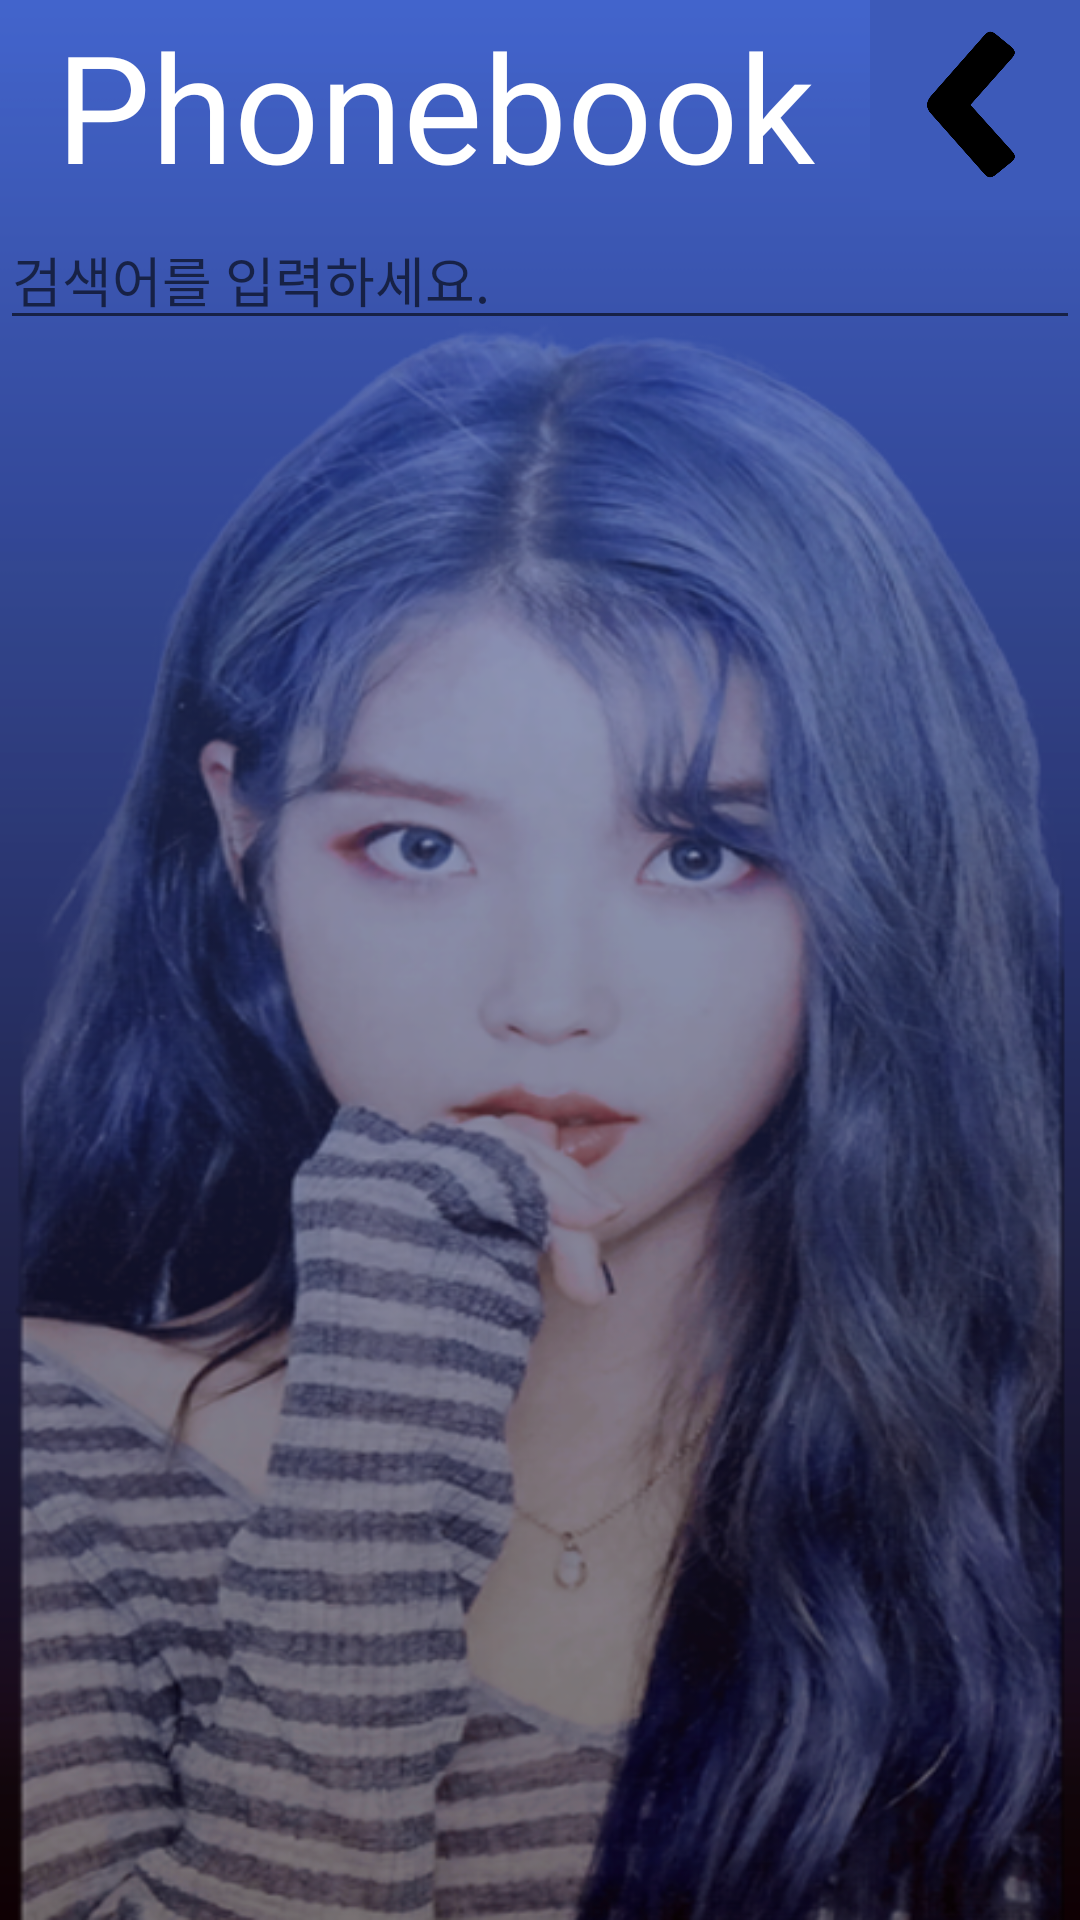

Icons on this 1080px x 1920px Android screen, each with the point to tap as [x,y]:
back: [971,104]
